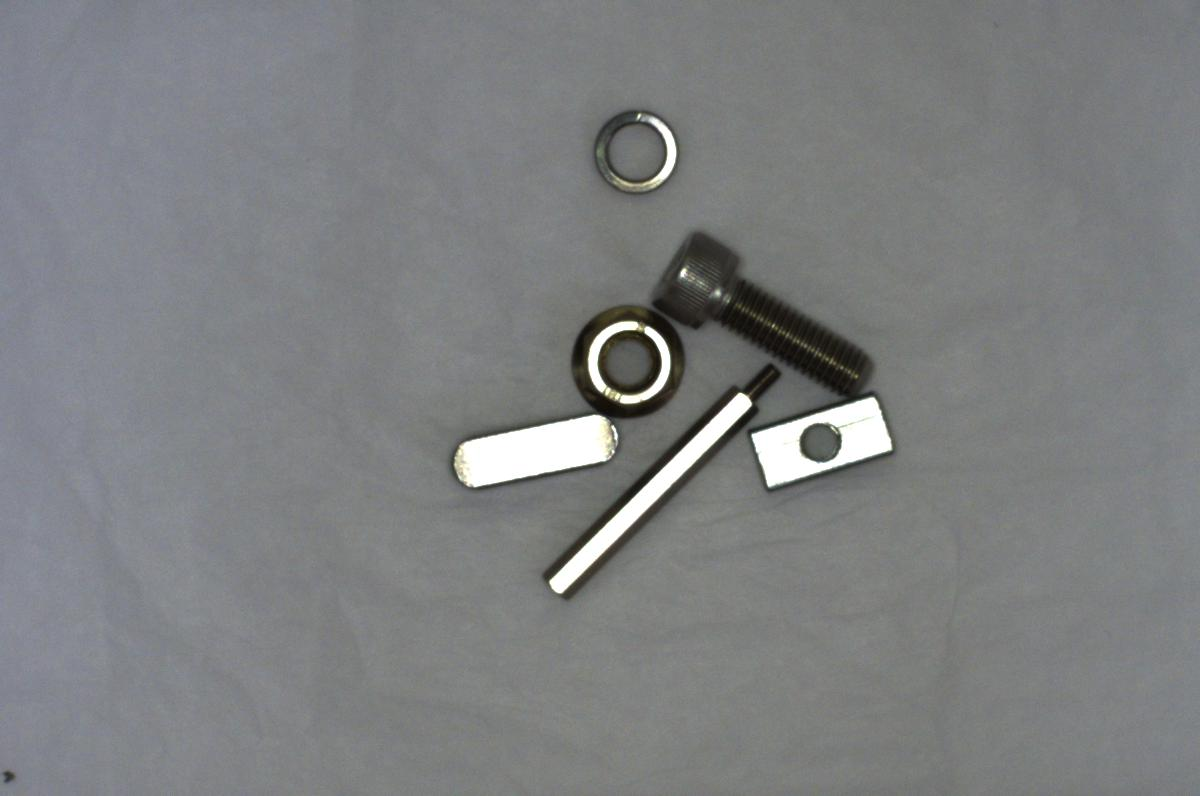Flange nut: (570, 304, 683, 417)
Hexagon screw: (651, 226, 875, 387)
Hexagonal steel column: (520, 358, 789, 599)
Keybar: (426, 410, 628, 498)
Rectangular nut: (751, 398, 900, 487)
Spring washer: (583, 100, 689, 198)
